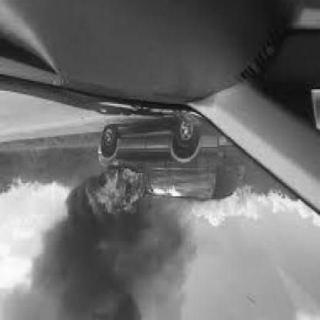Fire: (88, 166, 142, 218)
